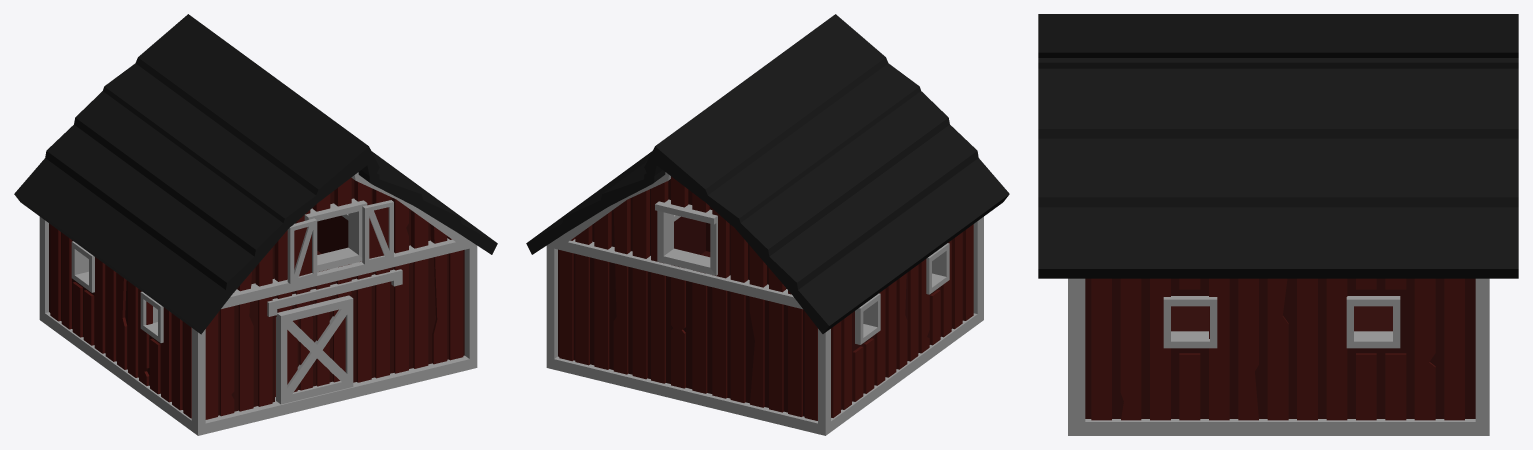
File: SmallBarn.fbx
The picture shows the model from 3 angles, left to right: view 1: azimuth 30°, elevation 25°; view 2: azimuth 150°, elevation 25°; view 3: azimuth 270°, elevation 25°; orthographic projection. The views are drawn at different scales.
Parts seen in each view (by area): view 1: Small_Barn, Small_Barn_Door, SmallBarn_Window, SmallBarn_Window2; view 2: Small_Barn; view 3: Small_Barn.
Part boxes in pixels (x1,y1,x2,y2): Small_Barn: (14, 14, 497, 435); Small_Barn_Door: (276, 295, 353, 404); SmallBarn_Window: (362, 200, 393, 264); SmallBarn_Window2: (287, 218, 317, 283); Small_Barn: (526, 14, 1009, 435); Small_Barn: (1038, 14, 1518, 435).
Size of the model in its own units: 6.08 by 4.96 by 6.27.
